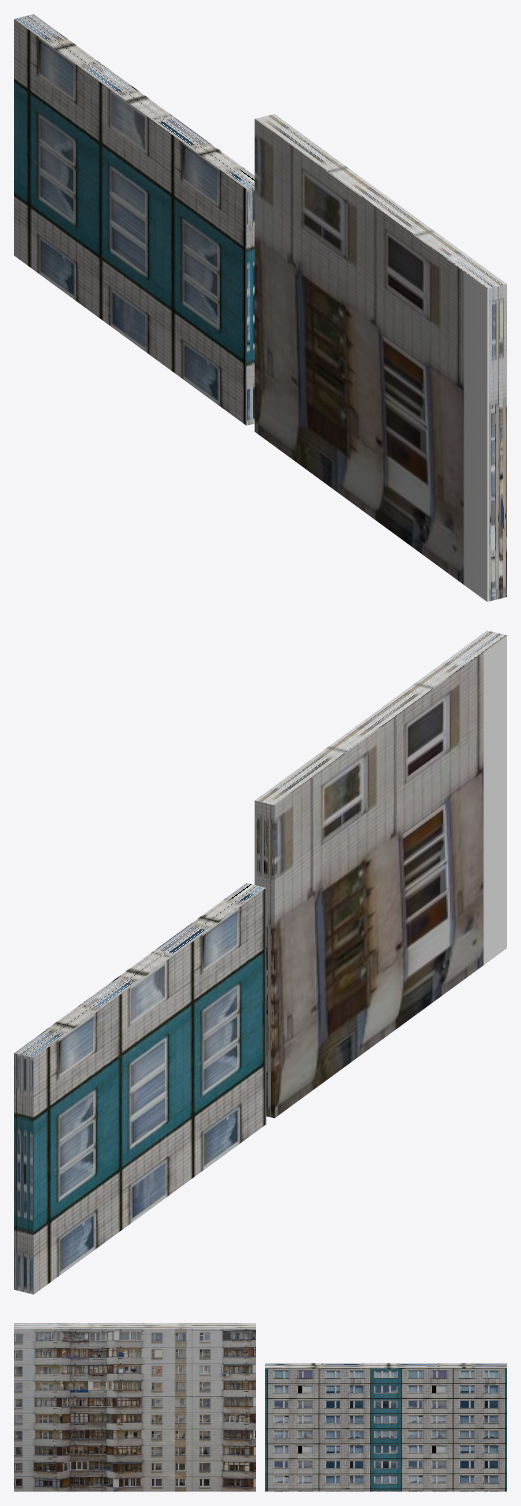
Rendered from houses2.fbx.
The picture shows the model from 3 angles, top to bottom: view 1: azimuth 30°, elevation 25°; view 2: azimuth 150°, elevation 25°; view 3: azimuth 270°, elevation 25°; orthographic projection. The views are drawn at different scales.
Visible parts, largest first — view 1: Cube, Cube.001; view 2: Cube, Cube.001; view 3: Cube, Cube.001.
Boxes of the visible parts, <box> form: Cube: <box>254,114,506,601</box>; Cube.001: <box>14,14,254,425</box>; Cube: <box>254,630,506,1118</box>; Cube.001: <box>14,883,266,1294</box>; Cube: <box>14,1323,255,1491</box>; Cube.001: <box>265,1363,506,1491</box>.
Bounding box in the file's own units: 17.52 × 264 × 725.
